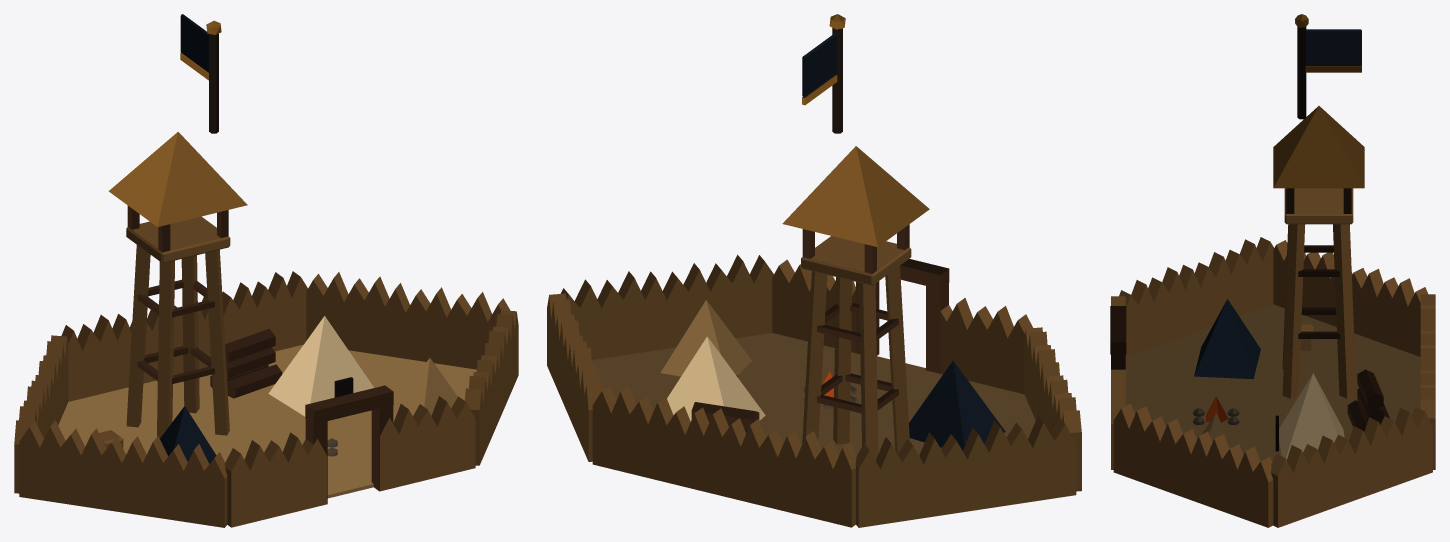
The model's file is settle_0.obj.
The picture shows the model from 3 angles, left to right: view 1: azimuth 30°, elevation 25°; view 2: azimuth 150°, elevation 25°; view 3: azimuth 270°, elevation 25°; orthographic projection. The views are drawn at different scales.
Visible parts, largest first — view 1: core_plank, core_cloth, core_wood, core_thatch, core_white, core_team, core_wood_dark; view 2: core_plank, core_cloth, core_thatch, core_wood, core_team, core_white, core_wood_dark; view 3: core_plank, core_cloth, core_thatch, core_team, core_wood, core_white, core_wood_dark, core_gold.
Part boxes in pixels (left/top/right/bottom): core_plank: left=14, top=216, right=518, bottom=527; core_cloth: left=58, top=344, right=476, bottom=498; core_wood: left=127, top=205, right=393, bottom=504; core_thatch: left=108, top=132, right=247, bottom=227; core_white: left=268, top=316, right=373, bottom=416; core_team: left=160, top=14, right=216, bottom=463; core_wood_dark: left=209, top=33, right=218, bottom=133; core_plank: left=547, top=236, right=1081, bottom=527; core_cloth: left=591, top=300, right=1035, bottom=455; core_thatch: left=782, top=146, right=929, bottom=247; core_wood: left=691, top=224, right=949, bottom=433; core_team: left=802, top=33, right=1005, bottom=450; core_white: left=667, top=336, right=765, bottom=421; core_wood_dark: left=832, top=28, right=842, bottom=133; core_plank: left=1111, top=188, right=1435, bottom=527; core_cloth: left=1125, top=304, right=1420, bottom=461; core_thatch: left=1273, top=106, right=1364, bottom=188; core_team: left=1194, top=29, right=1361, bottom=379; core_wood: left=1110, top=188, right=1389, bottom=431; core_white: left=1279, top=373, right=1344, bottom=459; core_wood_dark: left=1297, top=27, right=1306, bottom=119; core_gold: left=1295, top=14, right=1361, bottom=72.
Size of the model in its own units: 0.9398 by 0.746 by 0.5688.
